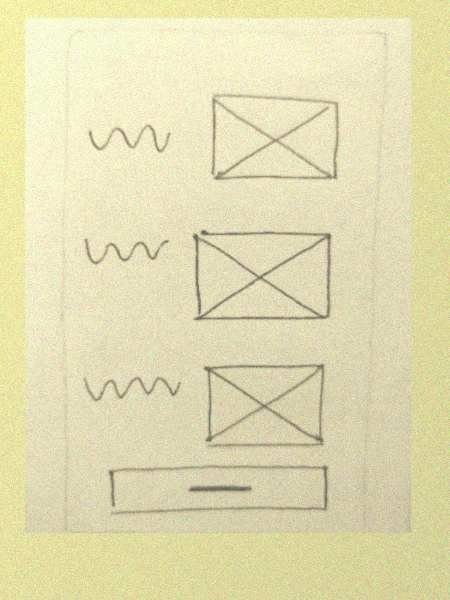button: (93, 459, 341, 523)
image: (199, 77, 349, 195), (187, 222, 339, 331), (199, 358, 334, 452)
text: (77, 367, 192, 414), (83, 115, 172, 167), (78, 228, 171, 271)
